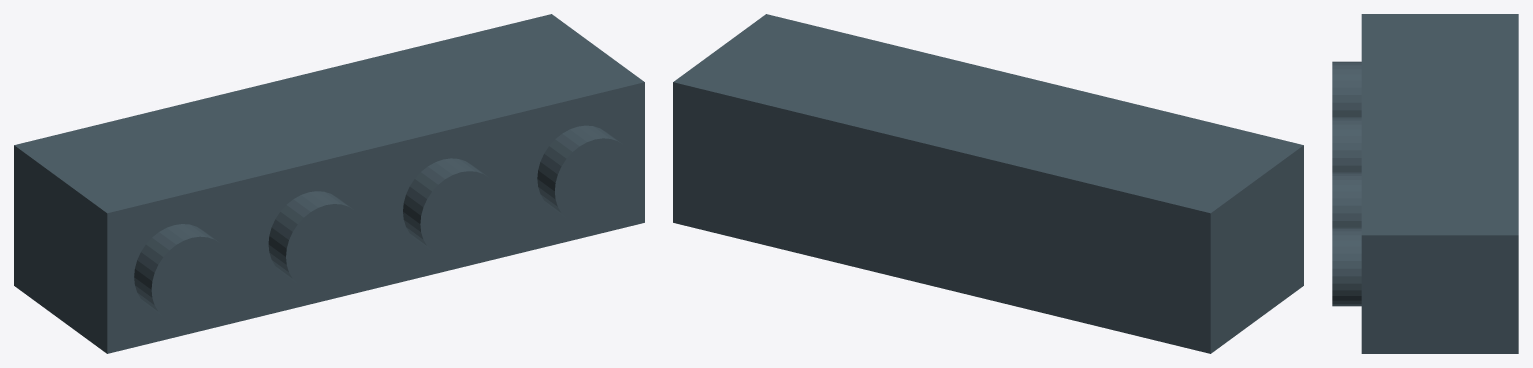
The model's file is brick_0.glb.
3 renders of one model, left to right at view 1: azimuth 30°, elevation 25°; view 2: azimuth 150°, elevation 25°; view 3: azimuth 270°, elevation 25°, orthographic. The views are drawn at different scales.
Parts seen in each view (by area): view 1: world; view 2: world; view 3: world.
Boxes of the visible parts, x1,y1,x2,y2 form: world: (14,14,644,353); world: (673,14,1303,353); world: (1332,14,1518,353).
Size of the model in its own units: 32 by 8 by 11.4.
